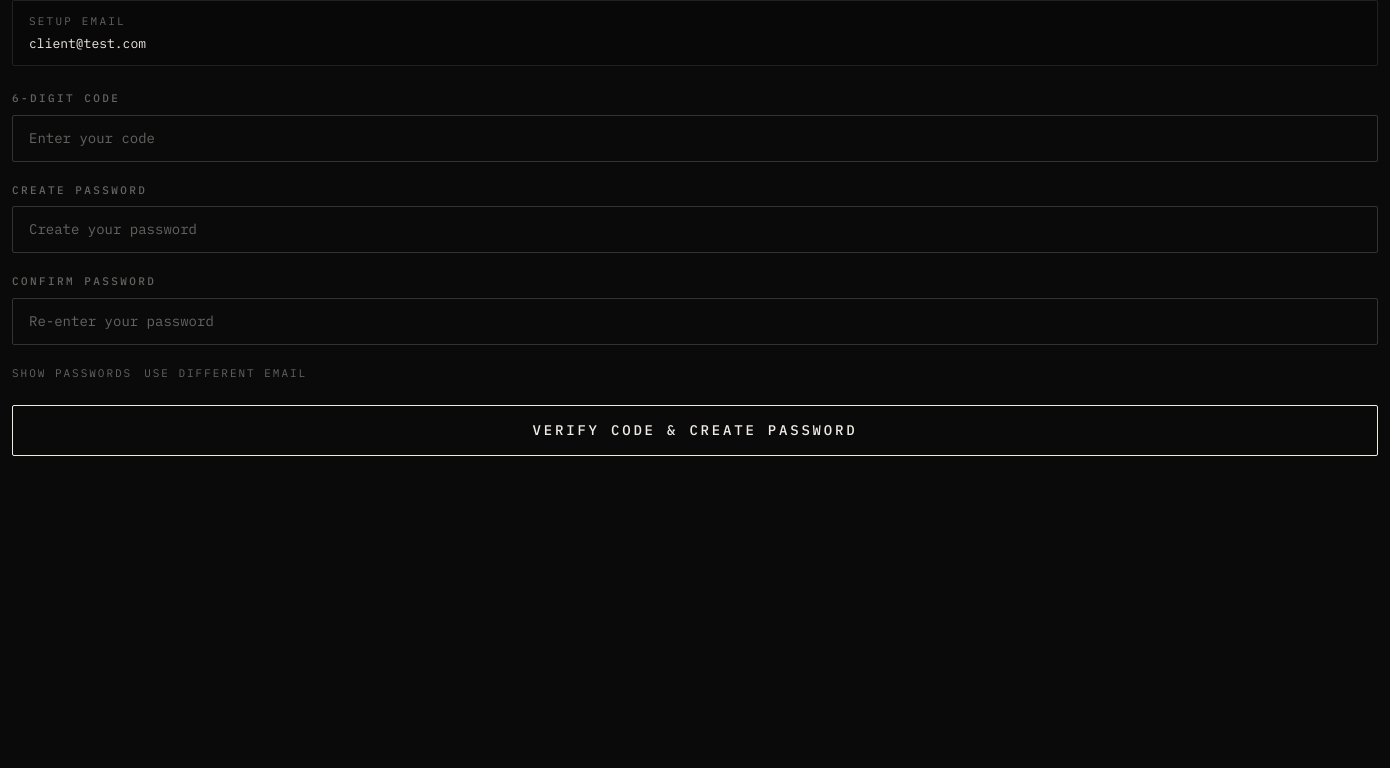
Test: ClientVerifySetupCodeForm › shows form error when verifySetupCodeAndSetPassword fails
This screenshot has width=1390, height=768.
In the field labelled "6-Digit Code": [695, 138] box 12,114 -> 1378,162, type "123456"
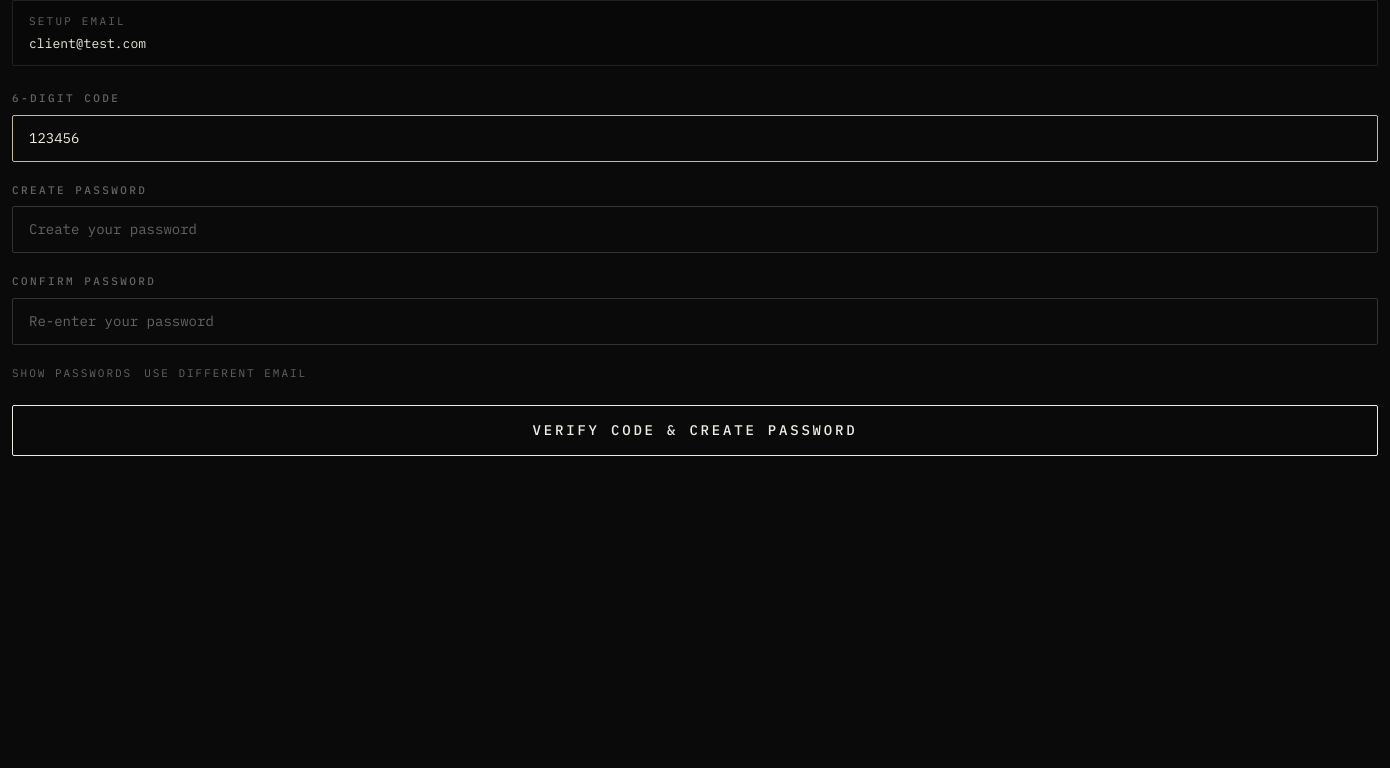
In the password field labelled "Create Password": [695, 230] box 12,206 -> 1378,253, type "password123"
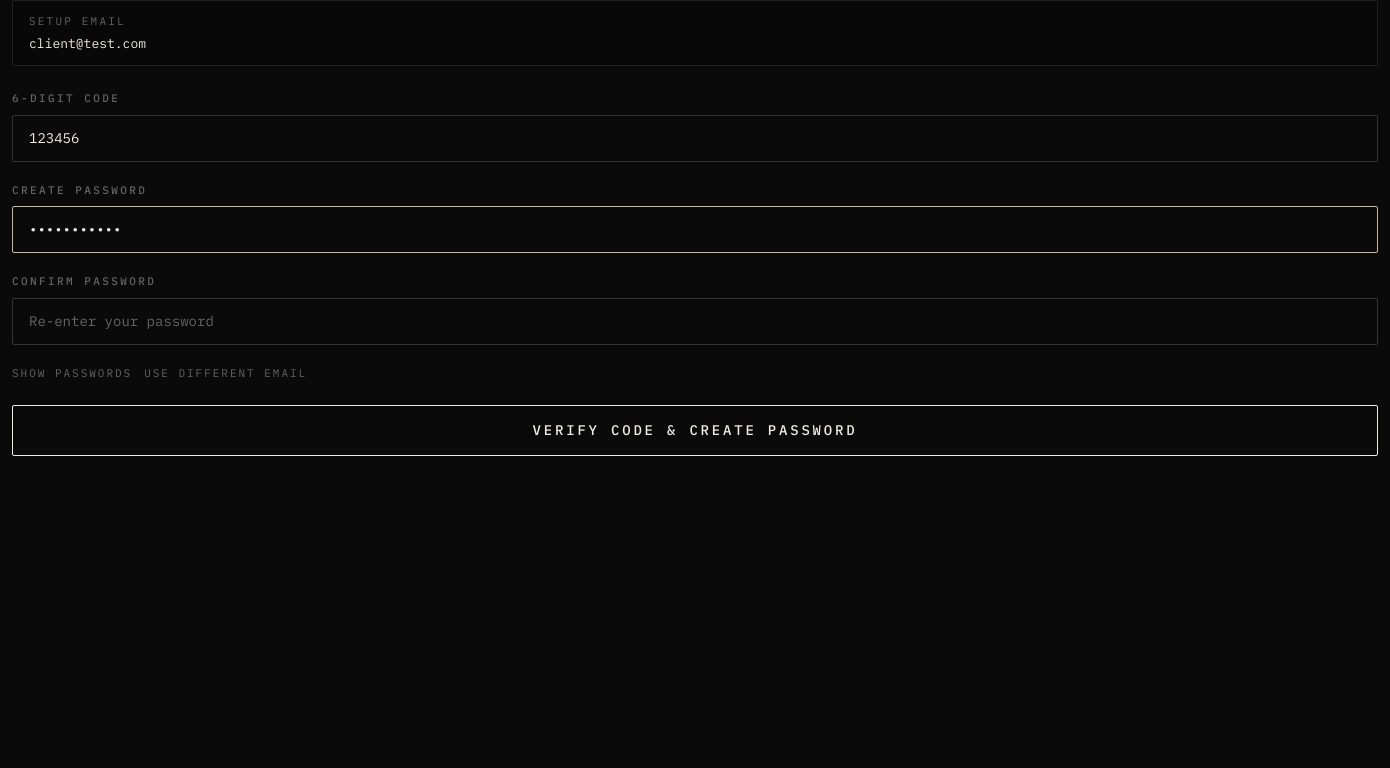
In the password field labelled "Confirm Password": [695, 321] box 12,298 -> 1378,344, type "password123"
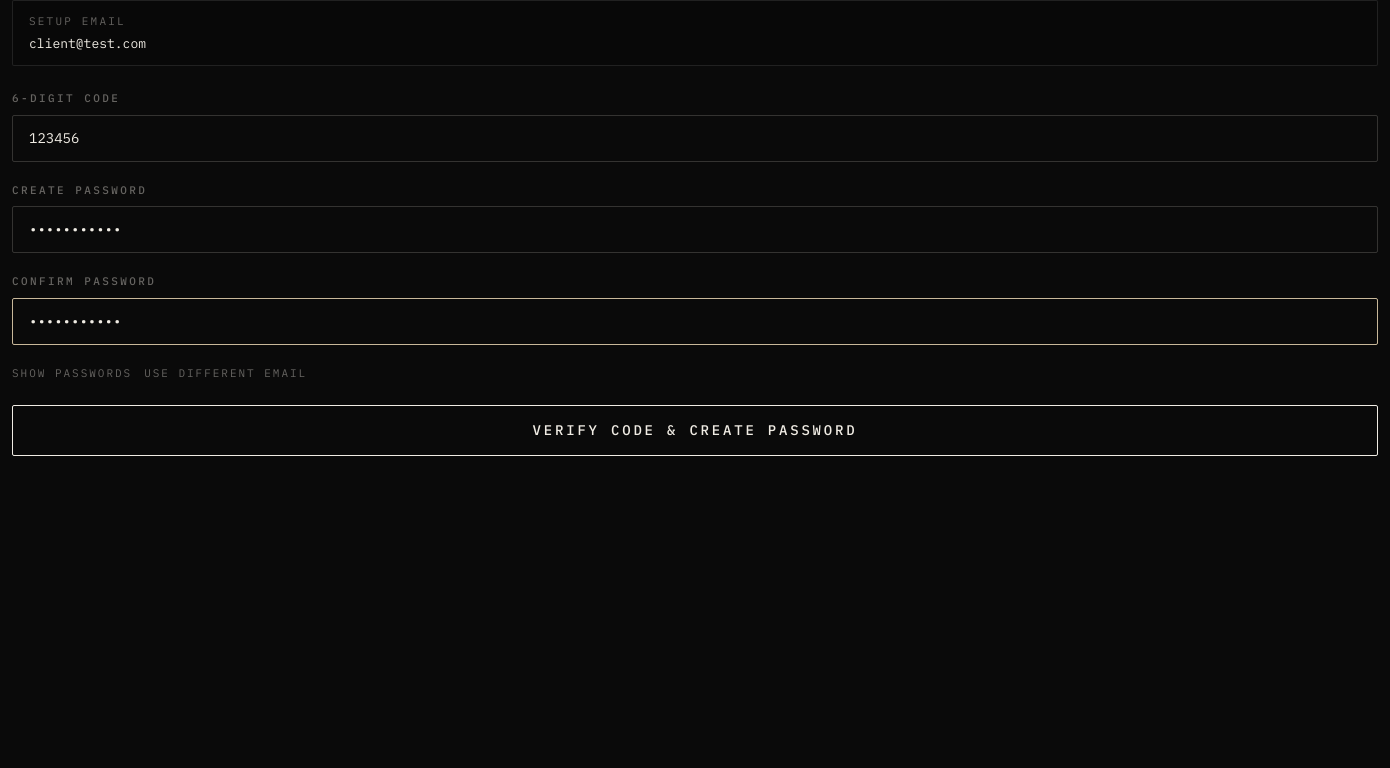
Click the button "Verify Code & Create Password": [695, 430] box 12,405 -> 1378,456
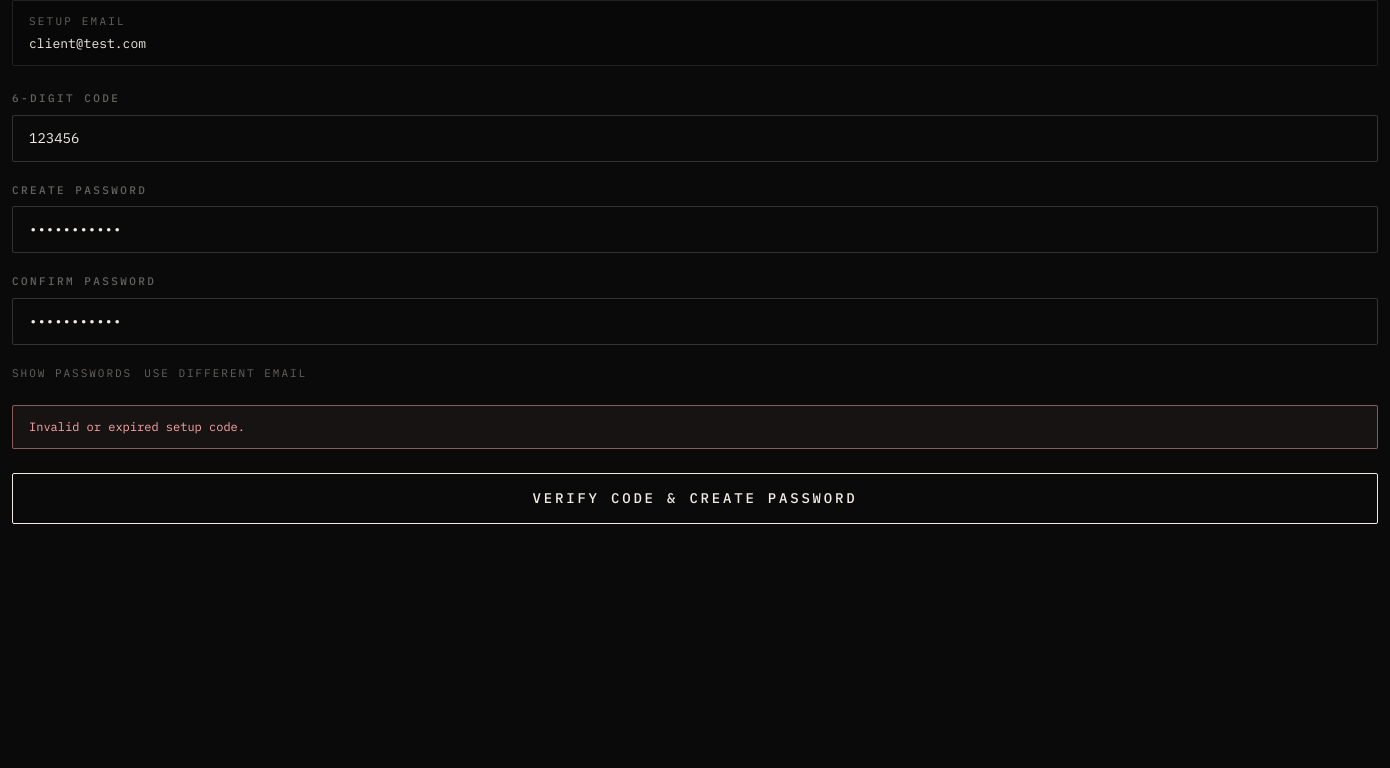
Expected: the text "Invalid or expired setup code." is shown, 29,419 -> 245,434
